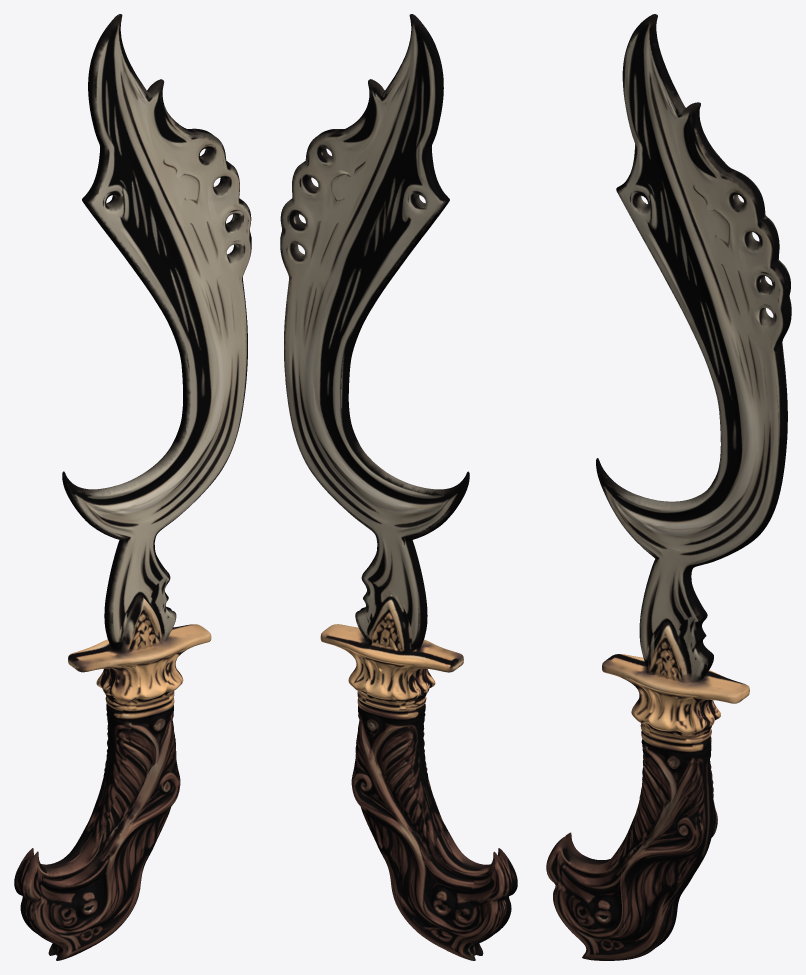
Rendered from Kujang.glb.
3 renders of one model, left to right at view 1: azimuth 30°, elevation 25°; view 2: azimuth 150°, elevation 25°; view 3: azimuth 330°, elevation 25°, orthographic. The views are drawn at different scales.
Visible parts, largest first — view 1: node_0; view 2: node_0; view 3: node_0.
Boxes of the visible parts, x1,y1,x2,y2 form: node_0: [14, 14, 251, 960]; node_0: [280, 14, 517, 960]; node_0: [546, 14, 791, 960].
Size of the model in its own units: 0.3076 by 1.18 by 0.0716.
1 material, 1 textured.
